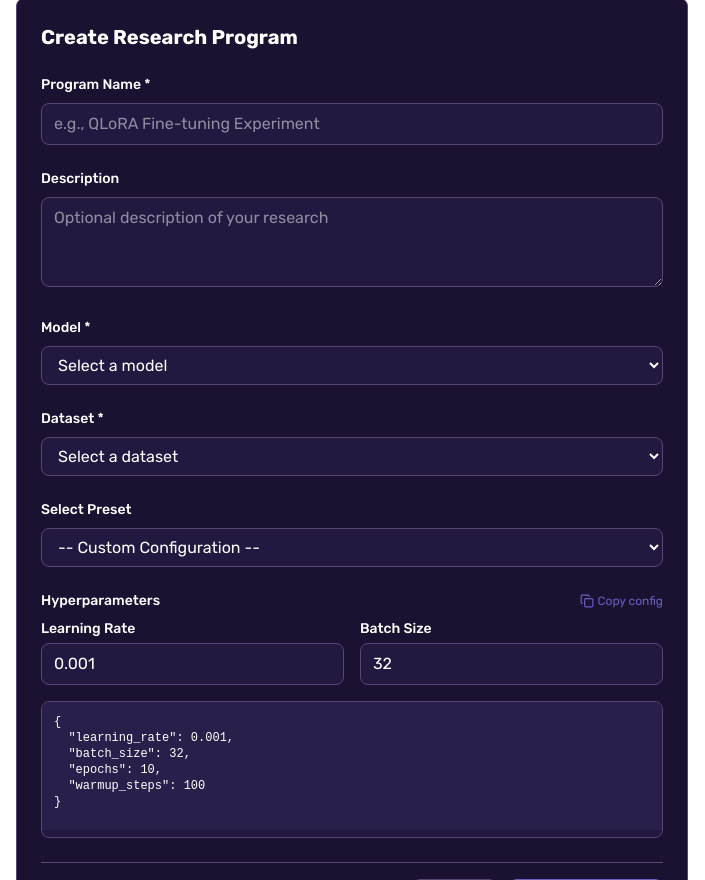
ResearchProgramEditor › Form Submission › should disable submit button while submitting
The image size is (705, 880).
Type "My Research" into the field labelled "Program Name *" at (352, 124), box [41,103,663,145]
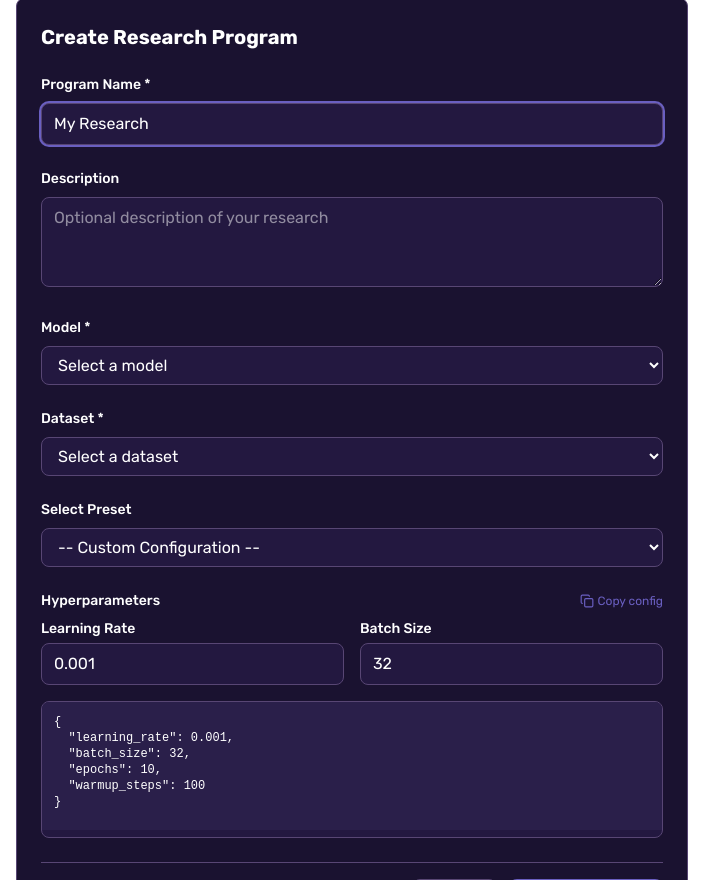
Select "Qwen 7B" in the dropdown labelled "Model *" at (352, 366), box [41,346,663,385]
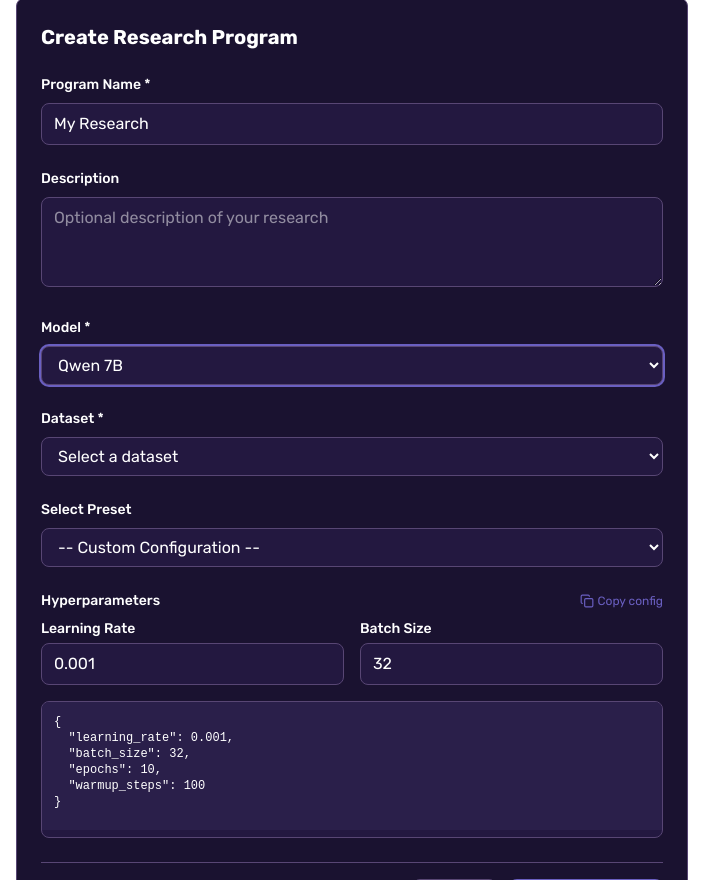
Select "Dataset 1 (1K samples)" in the dropdown labelled "Dataset *" at (352, 456), box [41,437,663,476]
(page scrolled)
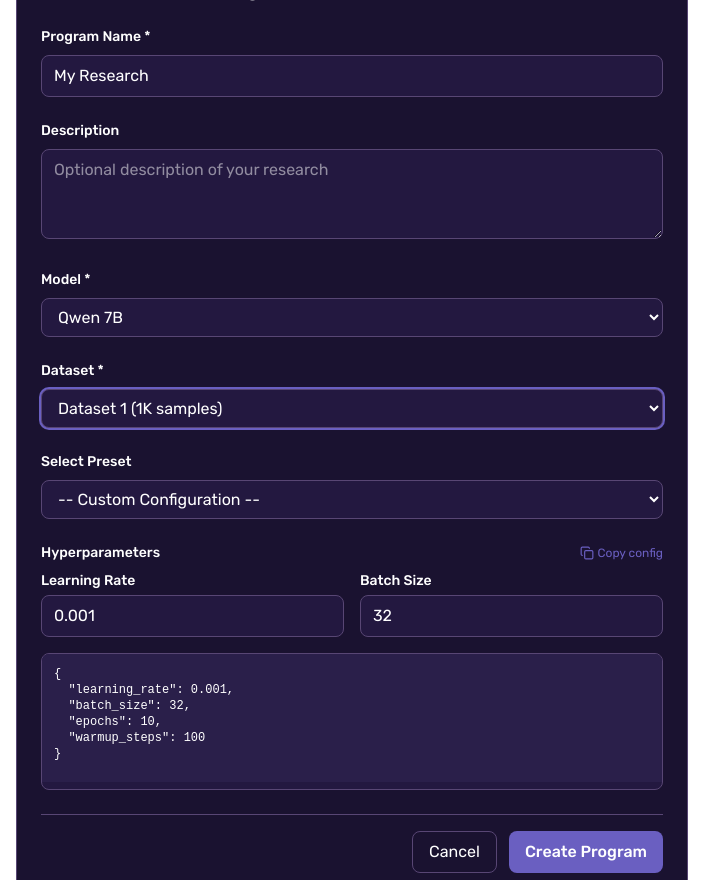
Click the button "Create Program" at (586, 852), box [509,831,663,873]
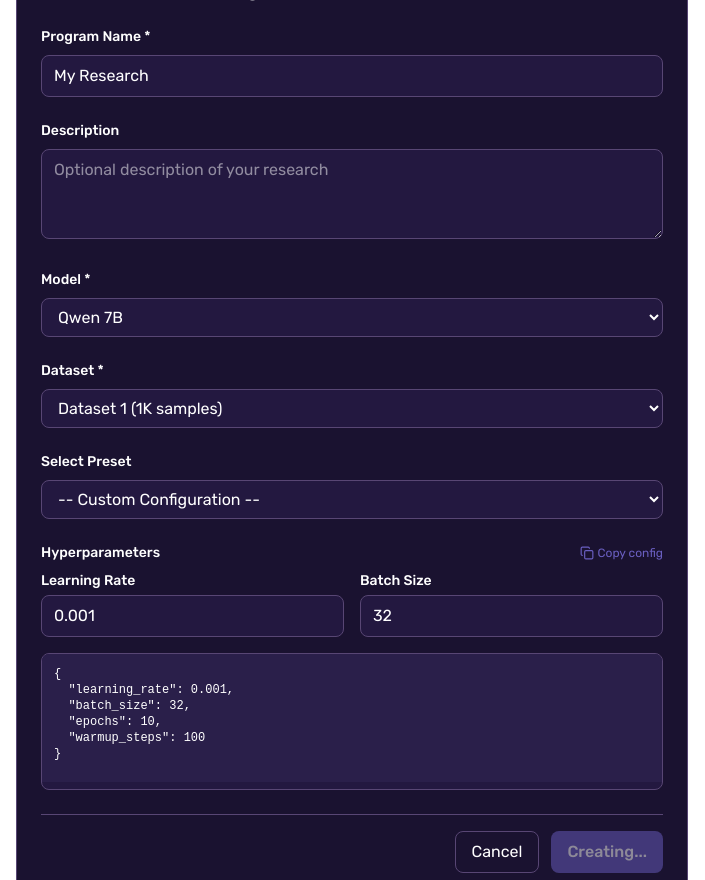
Now the button named "create program" is disabled, box [551,831,663,873]
